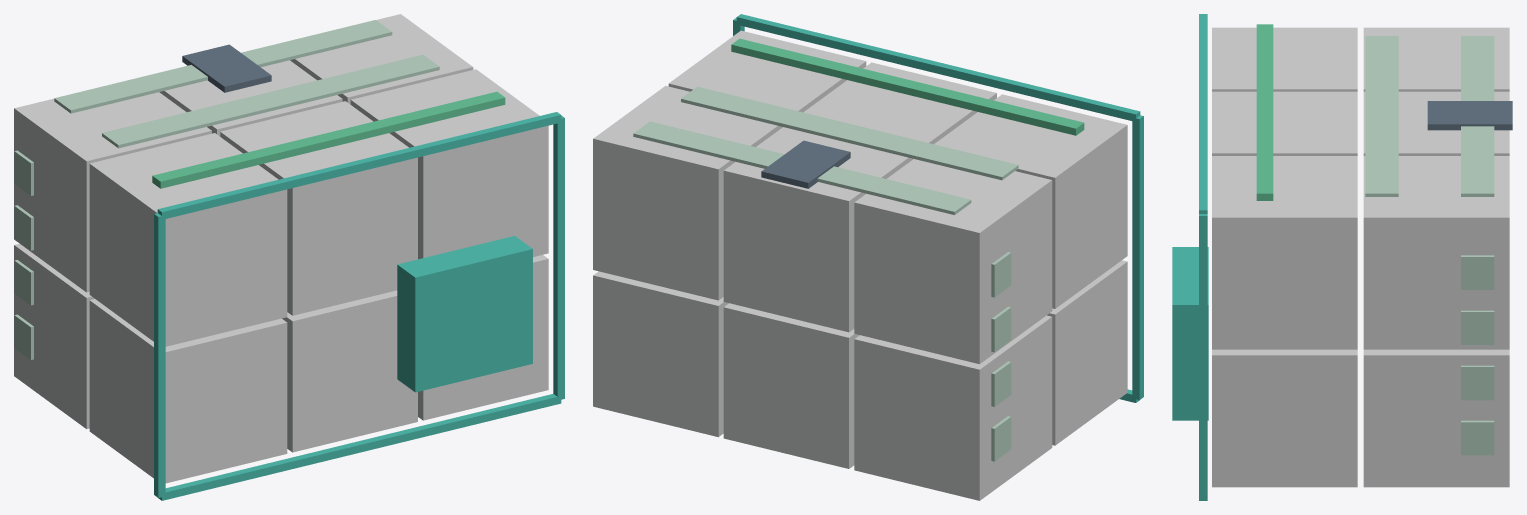
Rendered from building-exchange.glb.
3 renders of one model, left to right at view 1: azimuth 30°, elevation 25°; view 2: azimuth 150°, elevation 25°; view 3: azimuth 270°, elevation 25°, orthographic.
Visible parts, largest first — view 1: world; view 2: world; view 3: world.
Boxes of the visible parts, box(x1,y1,x2,y2) form: world: box(14, 14, 564, 500); world: box(593, 14, 1143, 500); world: box(1172, 14, 1512, 500).
Size of the model in its own units: 15.56 by 10.67 by 11.2.
